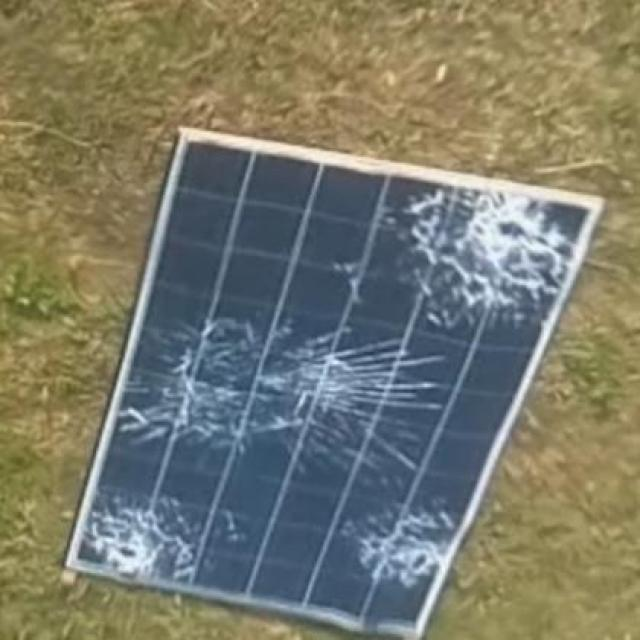cracked: (64, 126, 602, 631)
